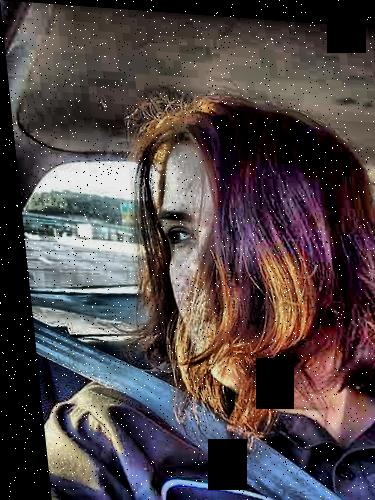seatbelt: (44, 317, 305, 500)
